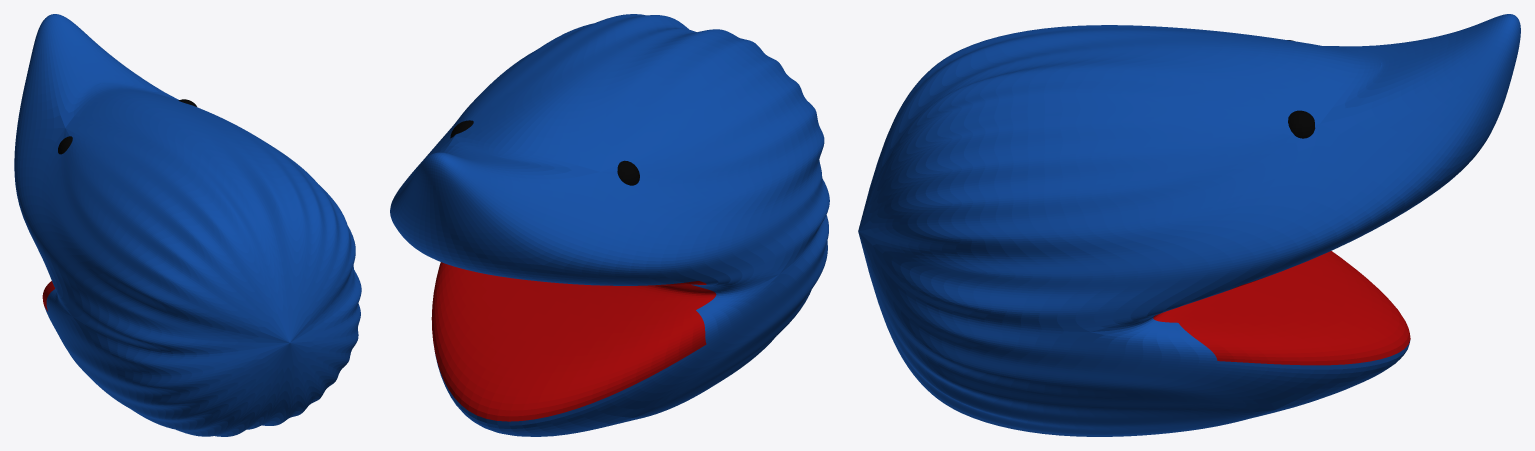
The model's file is esteban.obj.
3 views of the same model, side by side, from view 1: azimuth 30°, elevation 25°; view 2: azimuth 150°, elevation 25°; view 3: azimuth 270°, elevation 25° (orthographic). The views are drawn at different scales.
Visible parts, largest first — view 1: Cone; view 2: Cone, Sphere_Untitled; view 3: Cone, Sphere.002_Untitled.002.
Part boxes in pixels (x1,y1,x2,y2): Cone: (14,14,361,436); Cone: (390,14,829,436); Sphere_Untitled: (617,160,639,185); Cone: (858,14,1520,436); Sphere.002_Untitled.002: (1288,110,1315,138).
Bounding box in the file's own units: 1.89 × 2.09 × 3.15.
